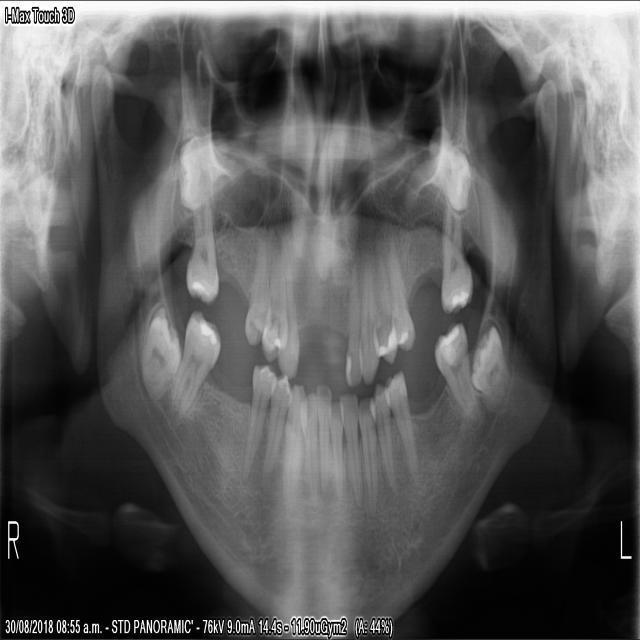LCD: (354, 389, 379, 521)
LCU: (356, 242, 379, 387)
LID: (334, 386, 363, 508), (324, 394, 344, 506)
LIU: (340, 251, 362, 390)
LMD: (432, 317, 482, 429), (467, 317, 513, 415)
LMU: (437, 205, 474, 320), (426, 128, 472, 219)
LPMD: (382, 363, 420, 480), (367, 373, 400, 500)
LPMU: (385, 227, 416, 355), (370, 231, 398, 367)
RCD: (279, 372, 307, 504)
RCU: (275, 251, 300, 380)
RID: (296, 381, 318, 505), (312, 375, 332, 498)
RMD: (164, 304, 223, 429), (137, 298, 180, 404)
RMU: (173, 126, 228, 213), (182, 199, 220, 306)
RPMD: (237, 356, 279, 475), (260, 366, 294, 481)
RPMU: (258, 239, 288, 366), (241, 227, 270, 351)
